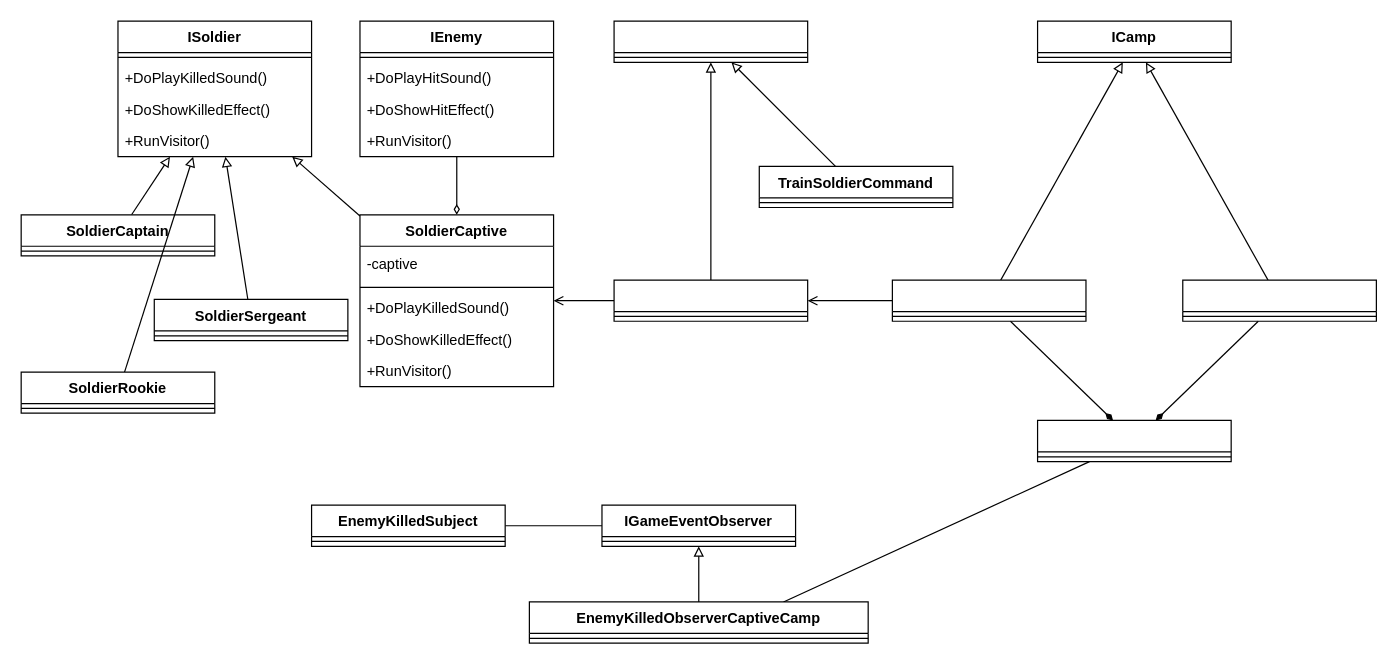
The diagram is 1398 pixels wide and 664 high, and some of its shapes have lost their labels. Here are the shapes that lost their labels. From the top down, the box of each, then its label:
(613, 20, 808, 62): ITrainCommand
(613, 279, 808, 321): TrainCaptiveCommand
(891, 279, 1086, 321): CaptiveCamp
(1182, 279, 1376, 321): SoldierCamp
(1036, 419, 1231, 462): CampSystem
